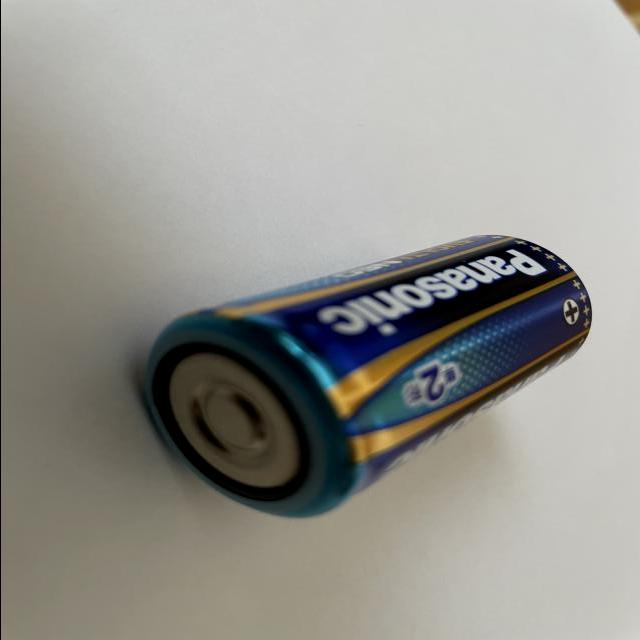AA: (136, 231, 595, 518)
